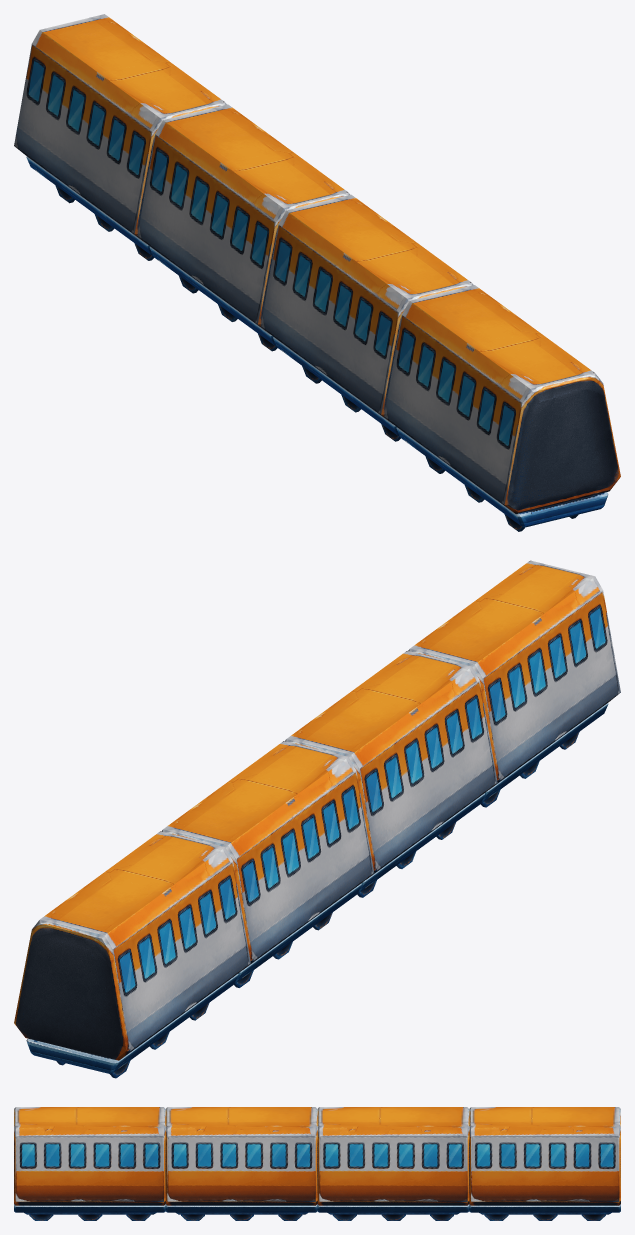
3 renders of one model, top to bottom at view 1: azimuth 30°, elevation 25°; view 2: azimuth 150°, elevation 25°; view 3: azimuth 270°, elevation 25°, orthographic. The views are drawn at different scales.
Parts seen in each view (by area): view 1: train_008_TT_checker_2048x2048_UV_GRID_001_0_1; view 2: train_008_TT_checker_2048x2048_UV_GRID_001_0_1; view 3: train_008_TT_checker_2048x2048_UV_GRID_001_0_1.
Boxes of the visible parts, <box> form: train_008_TT_checker_2048x2048_UV_GRID_001_0_1: <box>14,14,620,531</box>; train_008_TT_checker_2048x2048_UV_GRID_001_0_1: <box>14,560,620,1078</box>; train_008_TT_checker_2048x2048_UV_GRID_001_0_1: <box>14,1107,620,1220</box>.
Bounding box in the file's own units: 2.68 × 3.42 × 19.69.
1 material, 1 textured.
